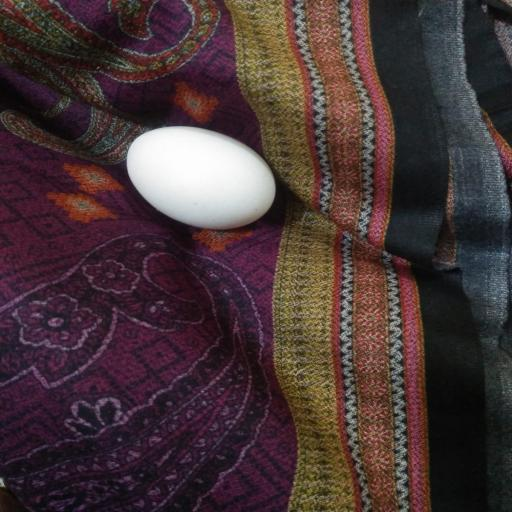telur: (116, 122, 286, 244)
